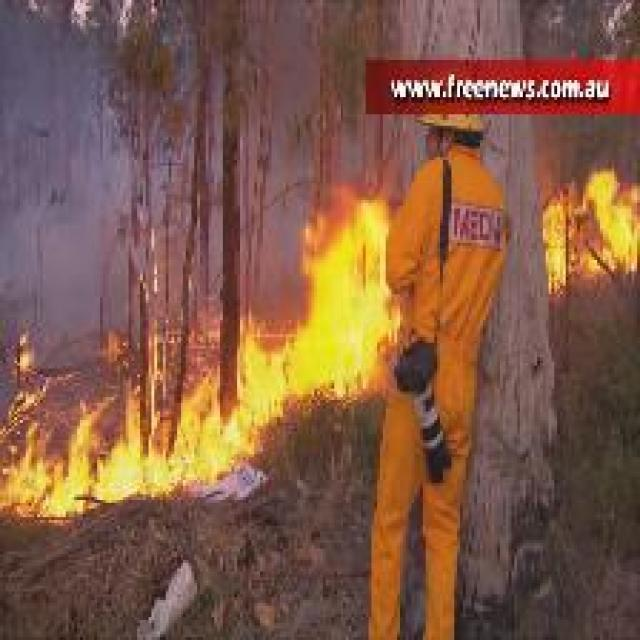Fire: (2, 176, 398, 524), (543, 168, 640, 298)
